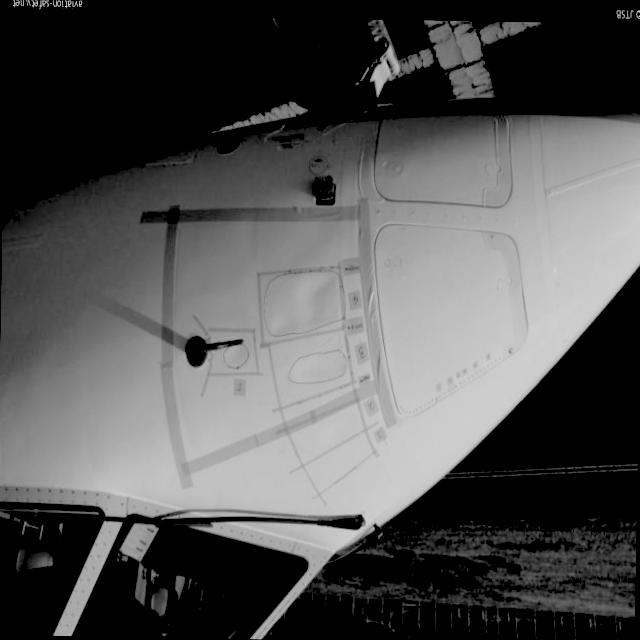dent: (267, 273, 339, 335), (288, 348, 346, 384), (302, 272, 336, 308), (222, 342, 250, 369)
